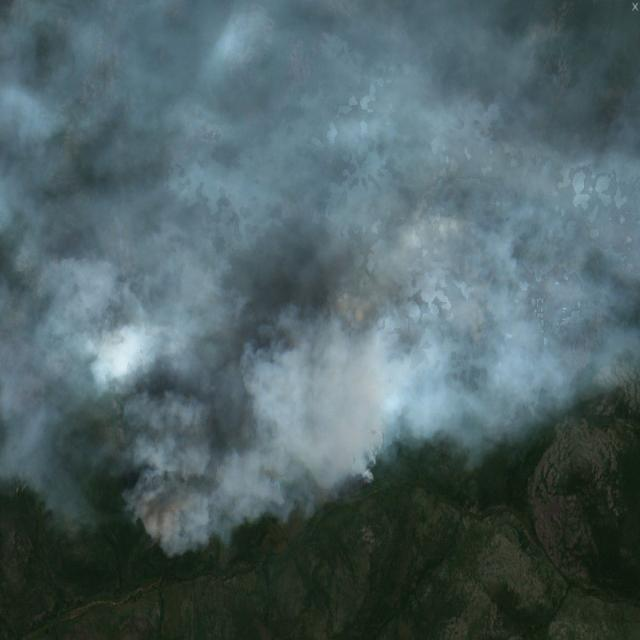fire: (360, 182, 491, 485), (132, 310, 252, 525)
